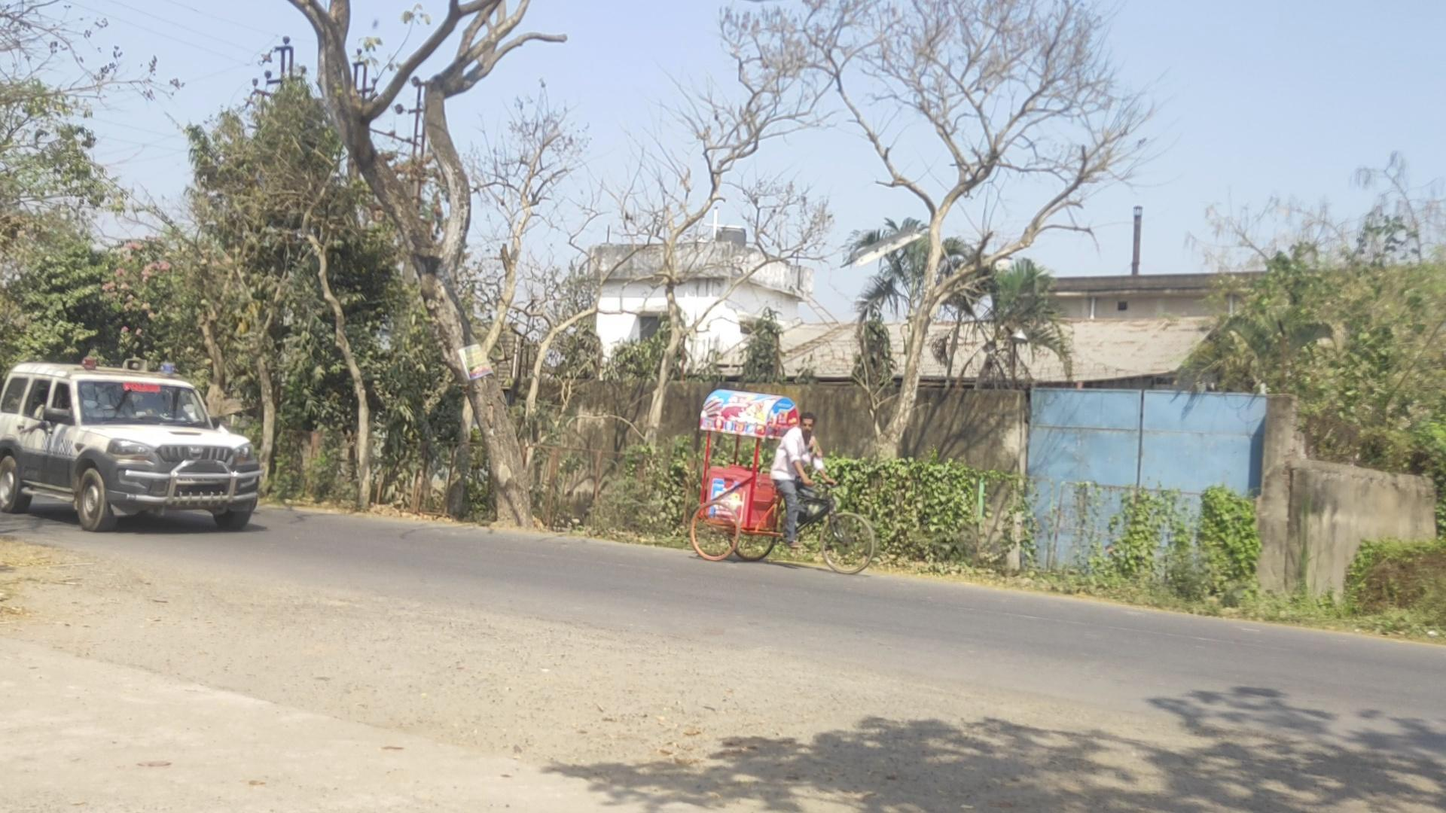car: (1, 355, 264, 532)
